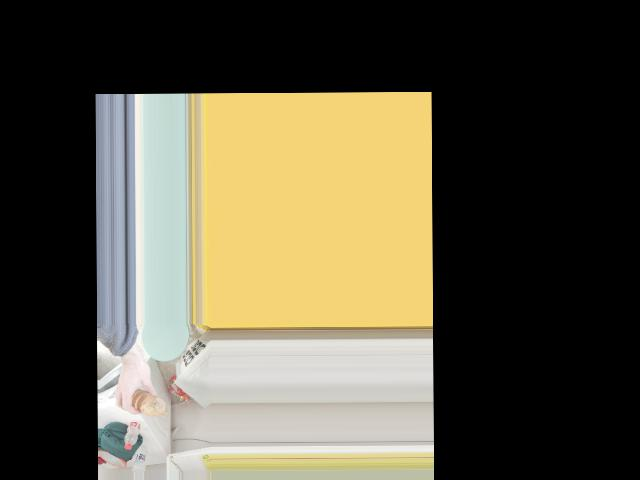sweet_potato: (132, 389, 160, 417)
